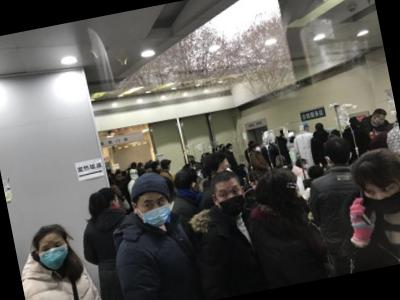with_mask: (360, 179, 400, 221), (137, 194, 175, 231), (36, 238, 73, 274), (215, 182, 247, 220), (374, 115, 388, 128), (255, 144, 262, 154), (157, 163, 164, 171), (303, 162, 310, 170), (229, 146, 235, 153)
without_mask: (115, 173, 124, 182)
